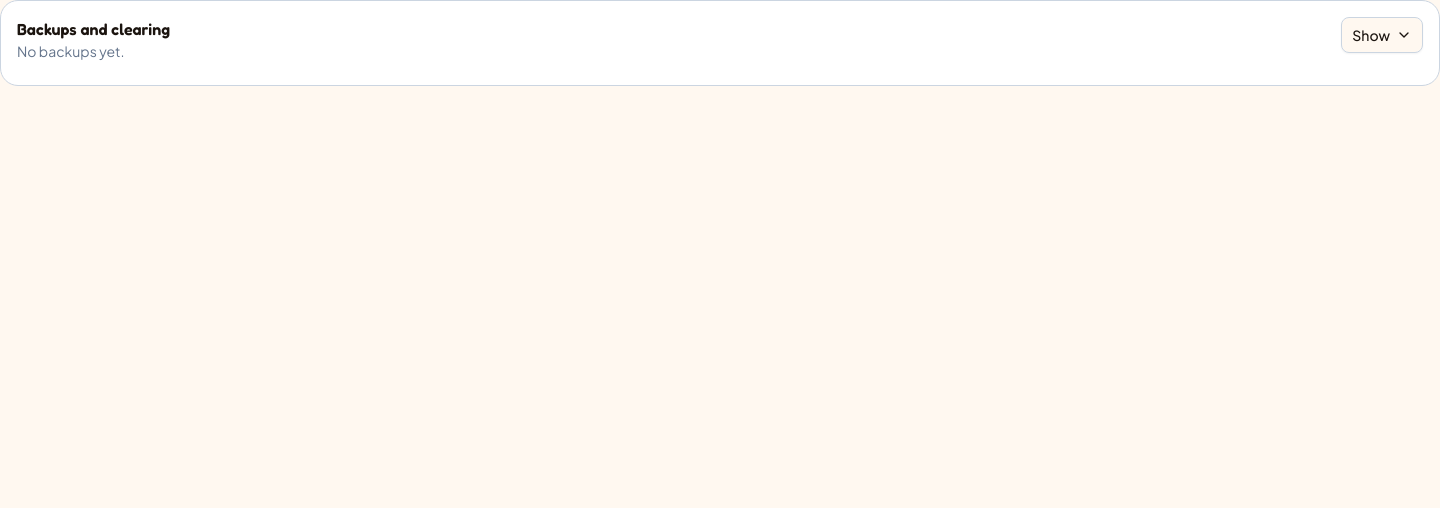
Test case: Activity Log backup panel › drives the visible date prompt from the controlled value
Expected: the text "No backups yet." is shown, [17,42,125,60]
Click the button with aria-label "Show backups and clearing".
click(1382, 35)  # box [1341,17,1423,53]
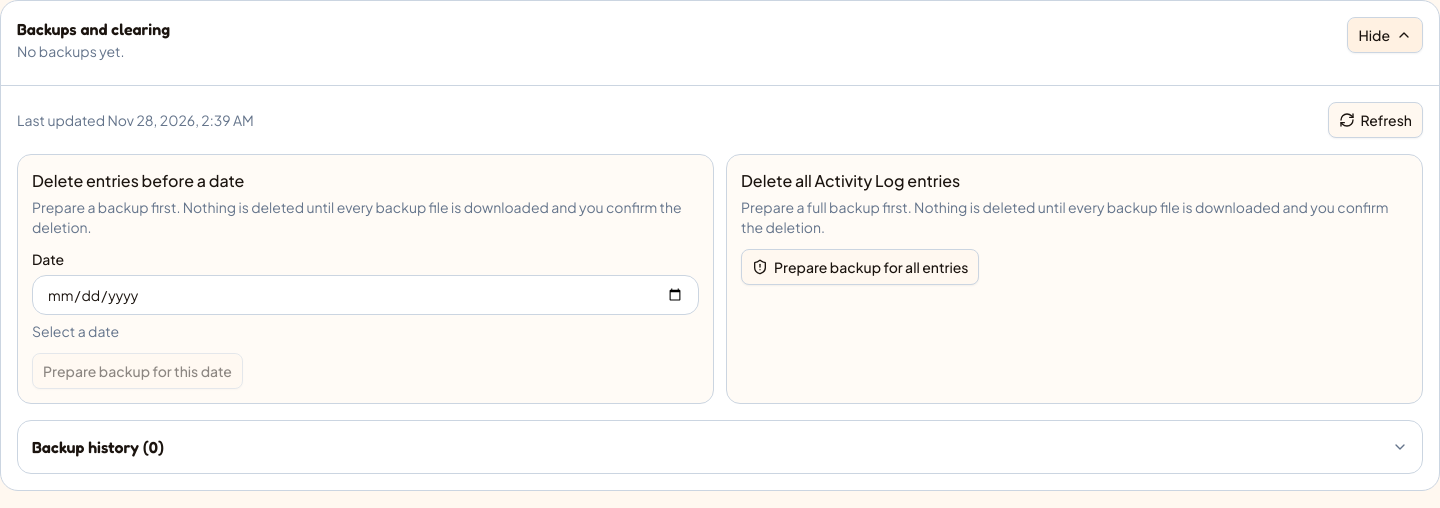
Now the text "Select a date" is shown, box [32,322,119,340]
Type "2026-11-20" into the date field labelled "Date".
click(366, 295); type("2026-11-20")  # box [32,275,699,315]
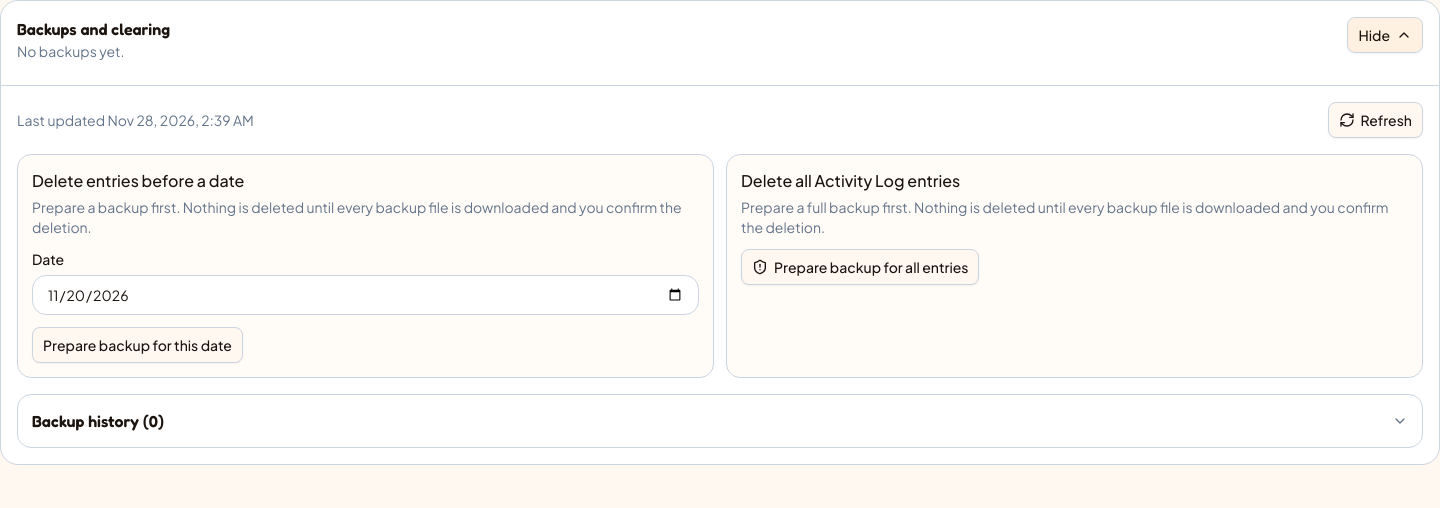
Now the text "Select a date" is gone
Now the button "Prepare backup for this date" is enabled, box [32,327,243,363]
